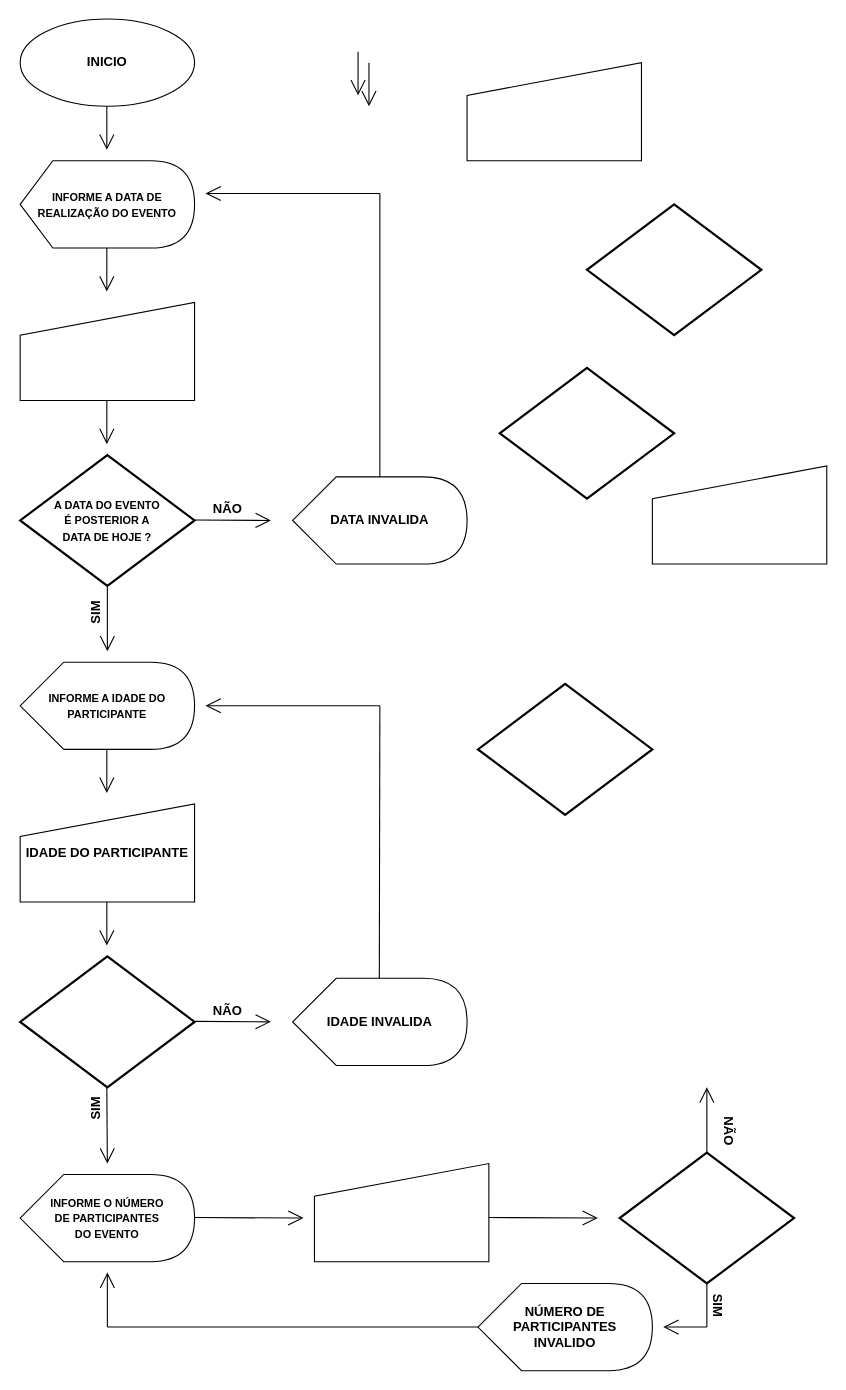
The diagram is 846 pixels wide and 1390 high, and some of its shapes have lost their labels. Each missing label, with the box of its shape:
DATA DO EVENTO: (19, 301, 195, 401)
NÚMERO DE PARTICIPANTES: (313, 1162, 489, 1262)
O EVENTO TERÁ MAIS DE 100 PARTICIPANTES ?: (618, 1151, 795, 1284)
O PARTICIPANTE TEM MAIS DE 18 ANOS ?: (19, 955, 195, 1088)
